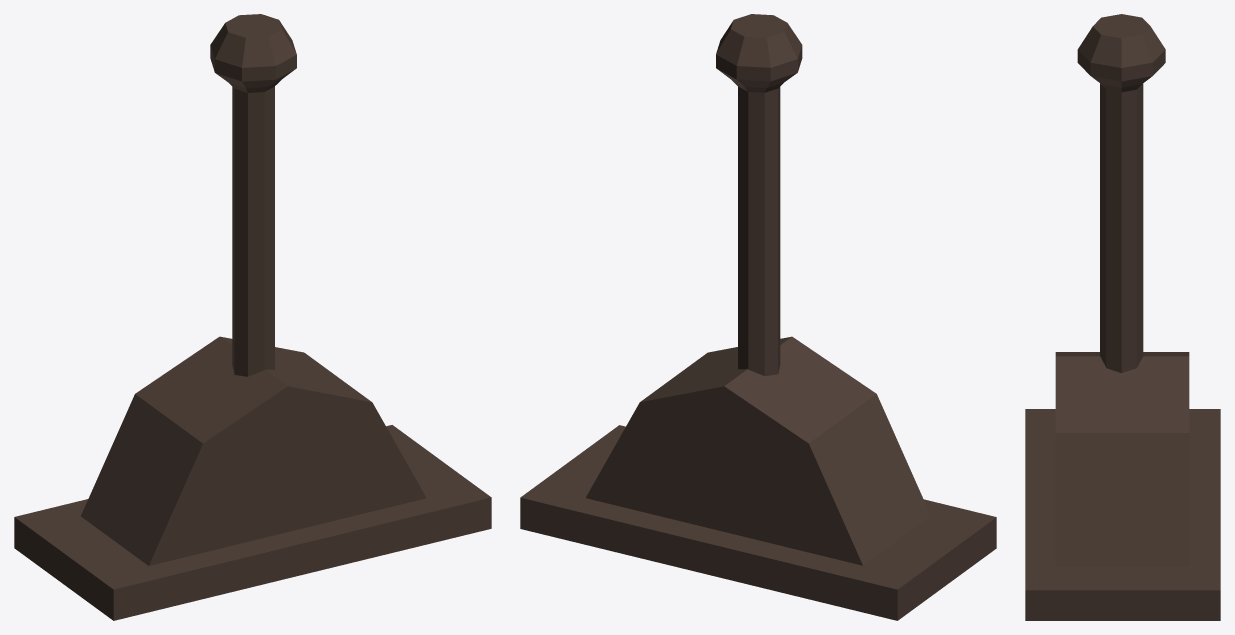
Rendered from lever.fbx.
3 renders of one model, left to right at view 1: azimuth 30°, elevation 25°; view 2: azimuth 150°, elevation 25°; view 3: azimuth 270°, elevation 25°, orthographic.
Visible parts, largest first — view 1: Cube, Circle.001; view 2: Cube, Circle.001; view 3: Cube, Circle.001.
Part boxes in pixels (<box>): Cube: <box>14,336,491,620</box>; Circle.001: <box>210,14,296,376</box>; Cube: <box>520,336,996,620</box>; Circle.001: <box>716,14,802,376</box>; Cube: <box>1025,352,1220,620</box>; Circle.001: <box>1077,14,1165,373</box>.
Bounding box in the file's own units: 316 × 409 × 144.
